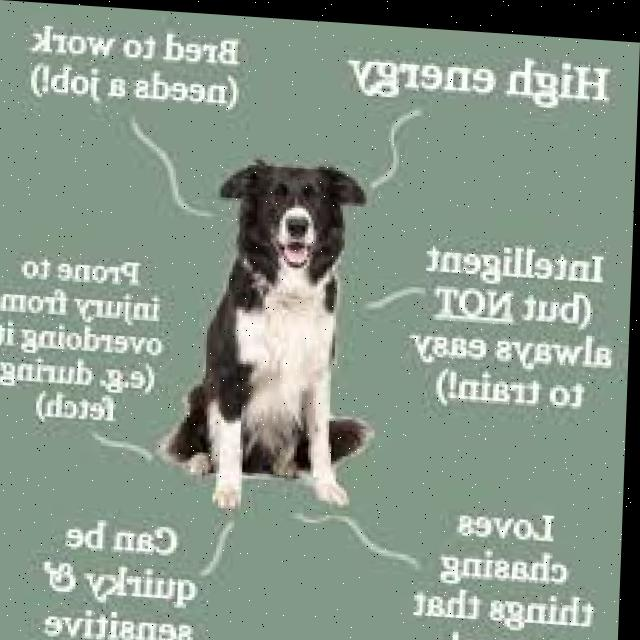BORDER_COLLIE: (147, 141, 381, 521)
